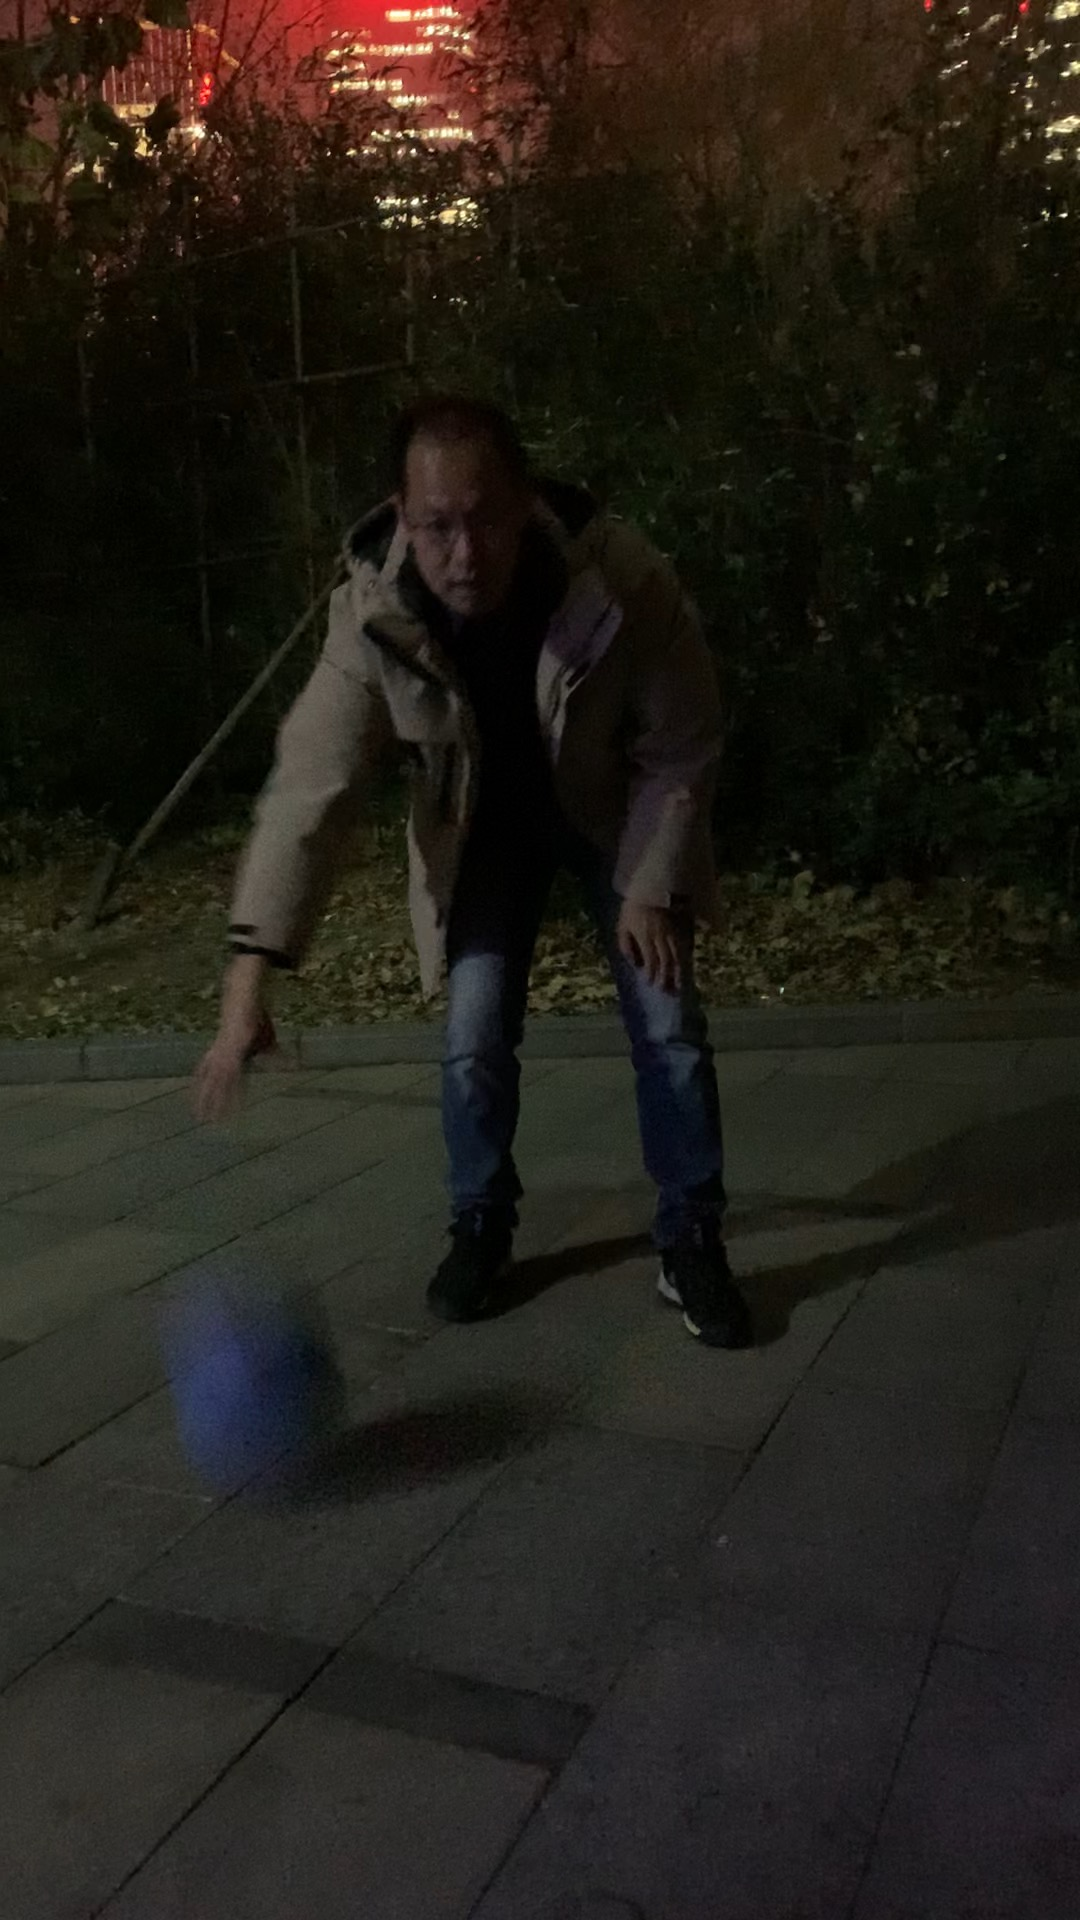ball: (175, 1316, 360, 1484)
